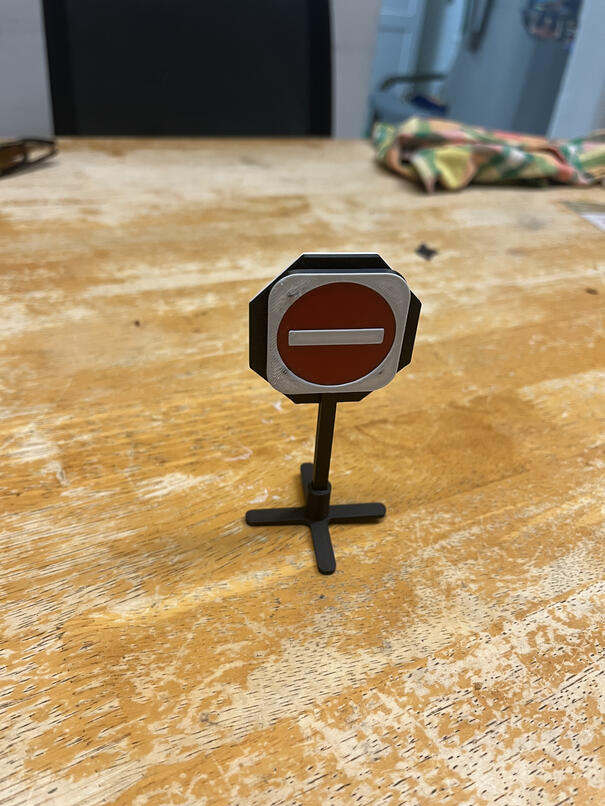sign_noentry: (267, 273, 408, 395)
